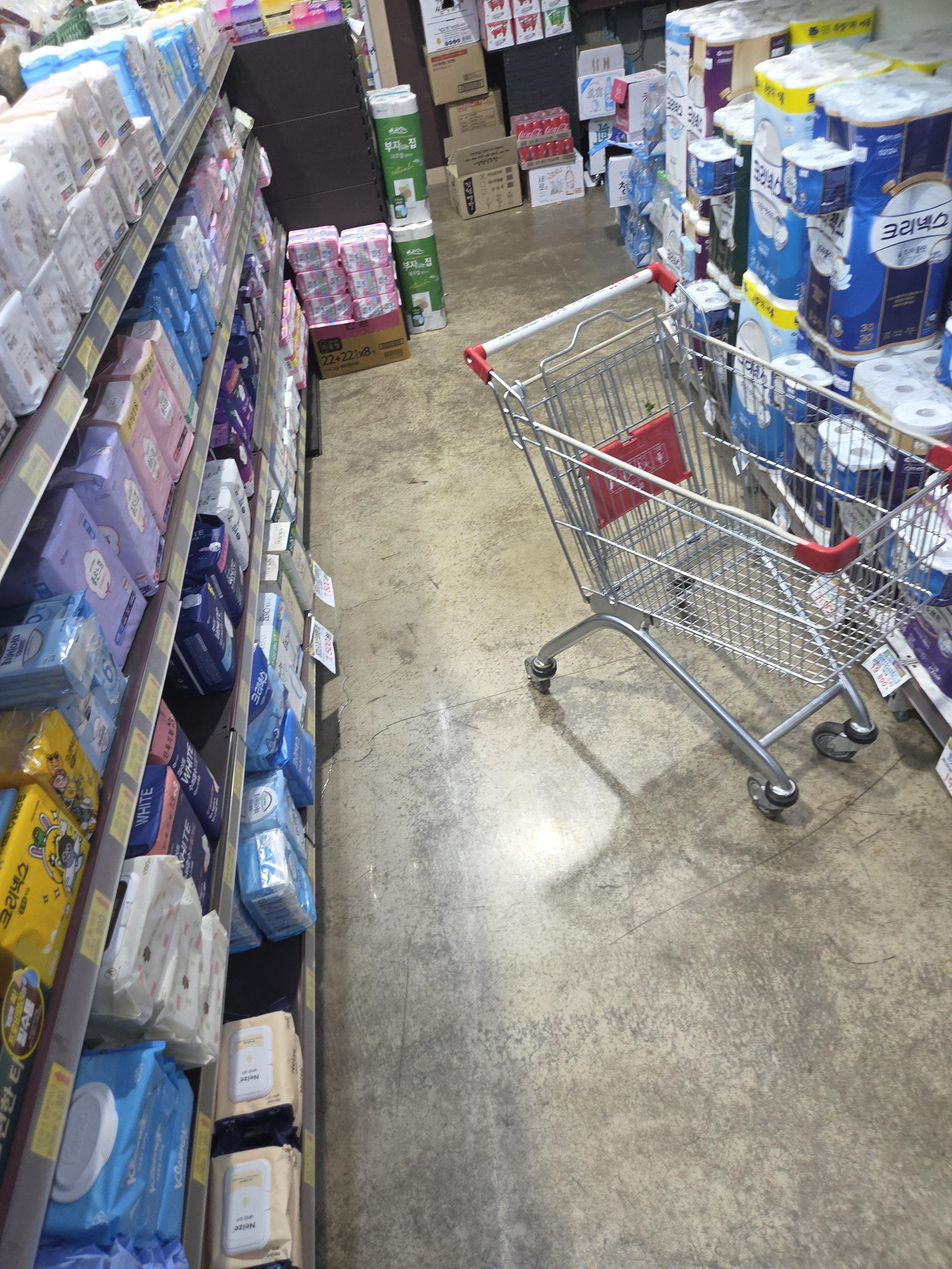empty_cart: (466, 256, 952, 830)
